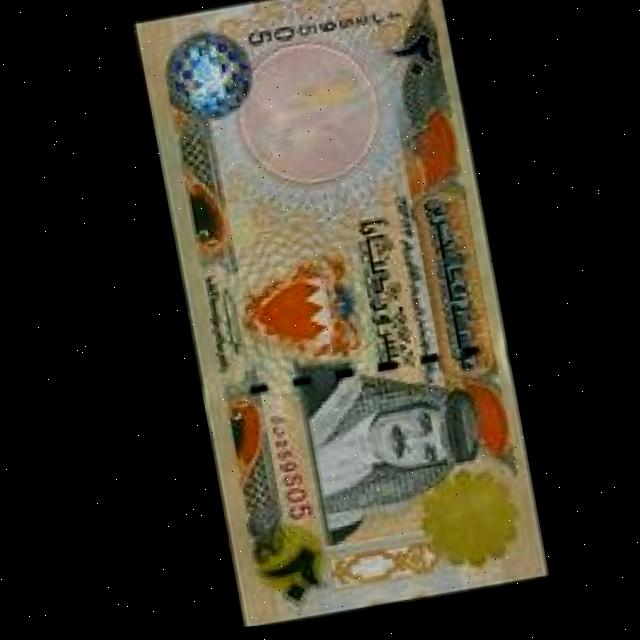banknote: (127, 0, 552, 633)
